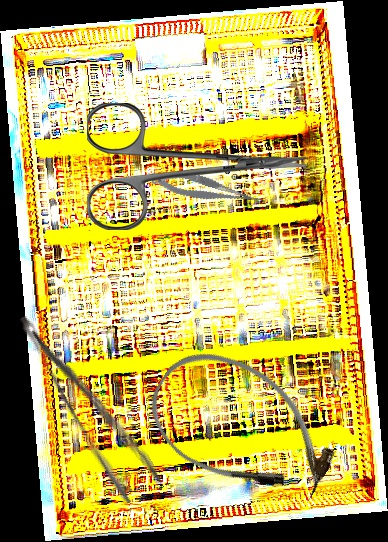Cannula: (131, 328, 354, 529)
Dressing Forceps: (15, 297, 165, 507)
Iris Scissors: (87, 103, 306, 230)
Micro Scissor: (148, 161, 264, 219)
